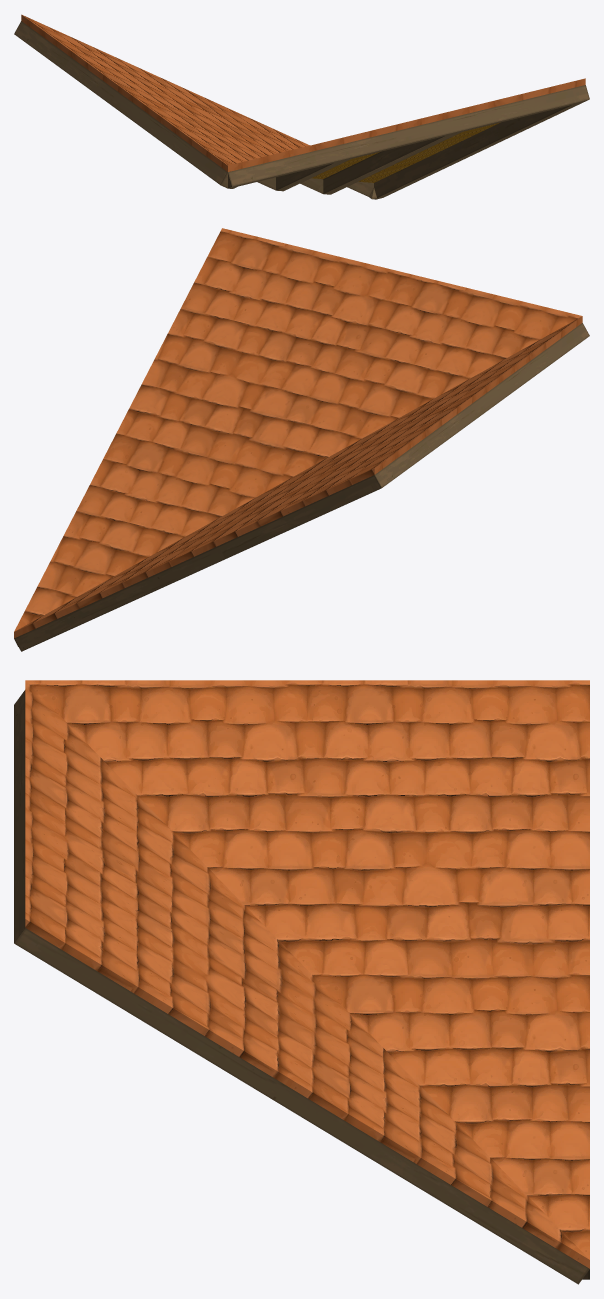
Rendered from SM_building_roof_14.glb.
3 renders of one model, top to bottom at view 1: azimuth 30°, elevation 25°; view 2: azimuth 150°, elevation 25°; view 3: azimuth 270°, elevation 25°, orthographic. The views are drawn at different scales.
Visible parts, largest first — view 1: SM_building_roof_14; view 2: SM_building_roof_14; view 3: SM_building_roof_14.
Part boxes in pixels (<box>): SM_building_roof_14: <box>14,14,589,199</box>; SM_building_roof_14: <box>14,228,589,651</box>; SM_building_roof_14: <box>14,680,589,1284</box>.
Size of the model in its own units: 6.12 by 4.29 by 6.12.
3 materials, 3 textured.
